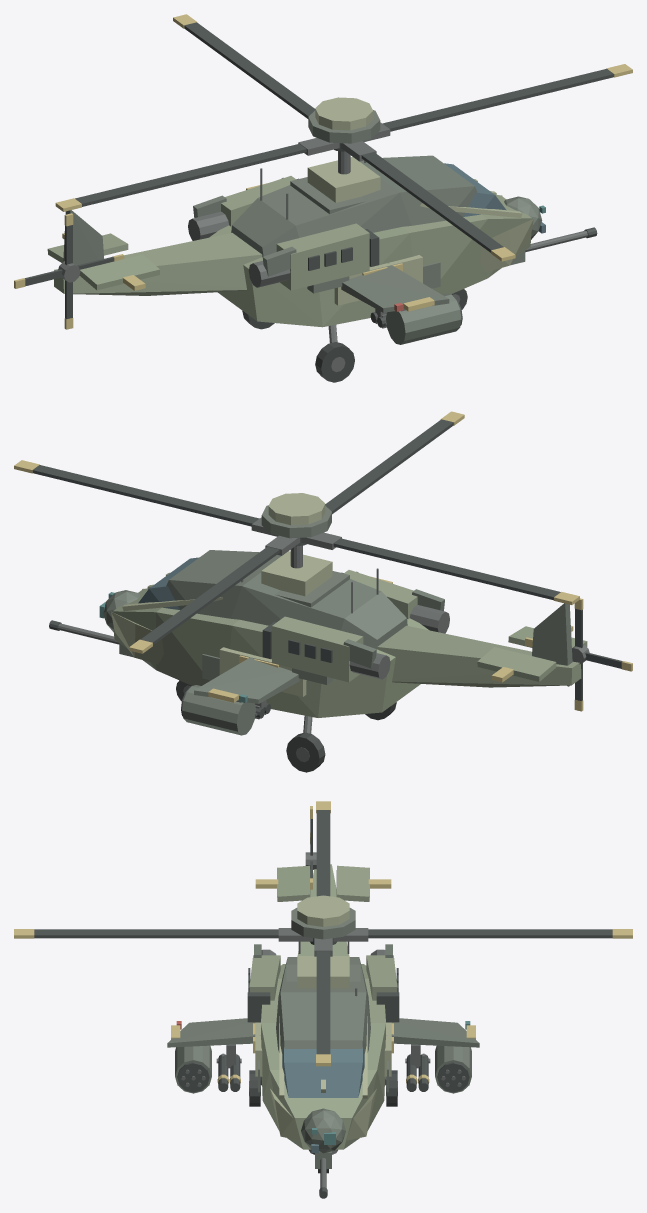
Rendered from aegis_talon_ahx.glb.
3 renders of one model, top to bottom at view 1: azimuth 30°, elevation 25°; view 2: azimuth 150°, elevation 25°; view 3: azimuth 270°, elevation 25°, orthographic. The views are drawn at different scales.
Visible parts, largest first — view 1: LowerFuselage, UpperFuselage, TailBoom, EngineNacelle_R, StubWing_R, MainRotorBlade_2, MainRotorBlade_0, RocketPod_R, TransmissionArmor, MainRotorBlade_3, MainRotorBlade_1, RotorRadarUpper (+14 smaller); view 2: LowerFuselage, UpperFuselage, TailBoom, EngineNacelle_L, StubWing_L, MainRotorBlade_2, MainRotorBlade_0, RocketPod_L, TransmissionArmor, MainRotorBlade_1, MainRotorBlade_3, VerticalFin (+13 smaller); view 3: LowerFuselage, UpperFuselage, CockpitCanopy, MainRotorBlade_1, MainRotorBlade_3, StubWing_L, StubWing_R, MainRotorBlade_0, RotorRadarUpper, SensorTurret, TransmissionArmor, MainRotorBlade_2 (+14 smaller).
Boxes of the visible parts, x1,y1,x2,y2 form: LowerFuselage: (209,194,532,327); UpperFuselage: (231,155,477,256); TailBoom: (54,233,262,295); EngineNacelle_R: (276,223,369,290); StubWing_R: (341,263,449,312); MainRotorBlade_2: (75,143,306,206); MainRotorBlade_0: (382,68,613,131); RocketPod_R: (386,293,461,344); TransmissionArmor: (307,156,380,202); MainRotorBlade_3: (361,152,503,252); MainRotorBlade_1: (184,22,315,118); RotorRadarUpper: (315,97,373,130); LowerFuselage: (112,588,428,717); UpperFuselage: (166,550,407,648); TailBoom: (377,625,581,687); EngineNacelle_L: (272,616,363,682); StubWing_L: (194,655,299,703); MainRotorBlade_2: (333,538,560,600); MainRotorBlade_0: (32,465,259,526); RocketPod_L: (182,685,255,735); TransmissionArmor: (261,551,332,596); MainRotorBlade_1: (141,546,279,645); MainRotorBlade_3: (325,419,453,514); VerticalFin: (532,603,572,686); LowerFuselage: (261,964,385,1149); UpperFuselage: (276,957,370,1053); CockpitCanopy: (282,1047,364,1097); MainRotorBlade_1: (368,929,612,938); MainRotorBlade_3: (34,929,278,938); StubWing_L: (386,1018,479,1047); StubWing_R: (167,1018,260,1047); MainRotorBlade_0: (316,951,330,1054); RotorRadarUpper: (297,895,349,926); SensorTurret: (301,1108,345,1153); TransmissionArmor: (297,956,349,988); MainRotorBlade_2: (316,810,330,896).
Bounding box in the file's own units: 11.31 × 4.05 × 10.38.
